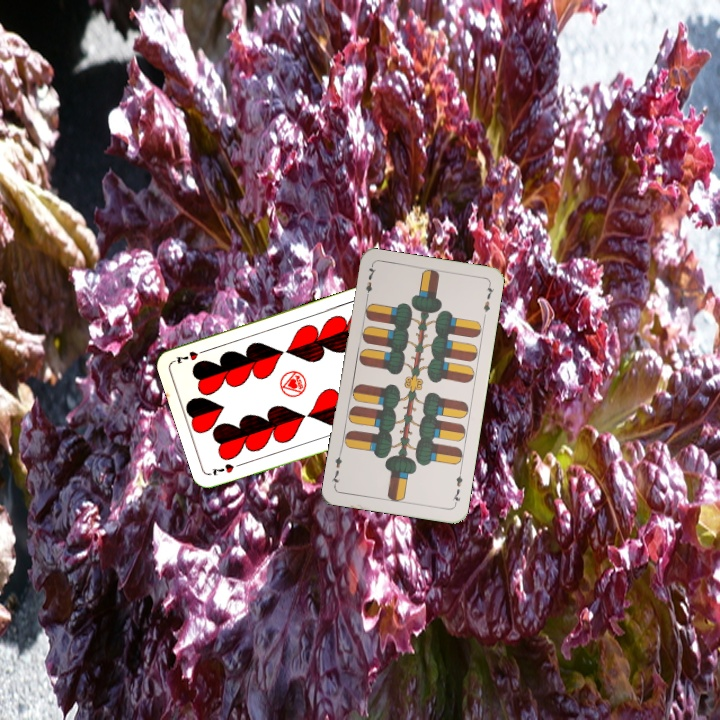E7: (448, 467, 465, 508), (361, 263, 378, 303)
H7: (208, 458, 246, 478)
